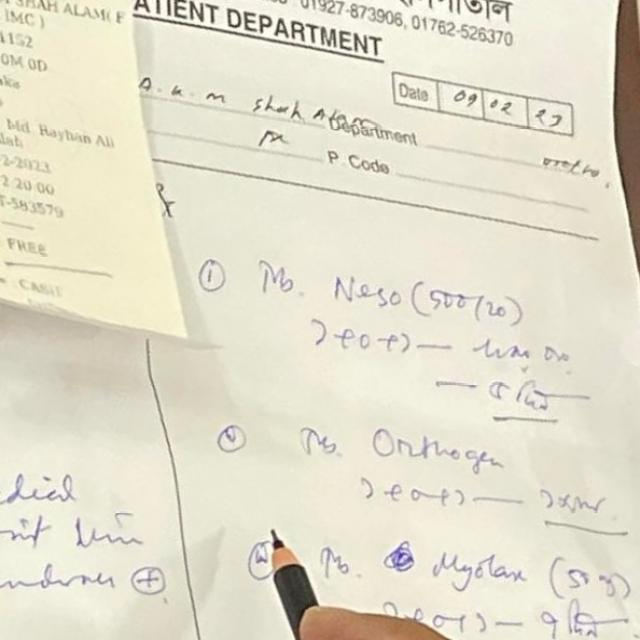Myolax: (434, 541, 528, 592)
Neso: (327, 270, 405, 315)
